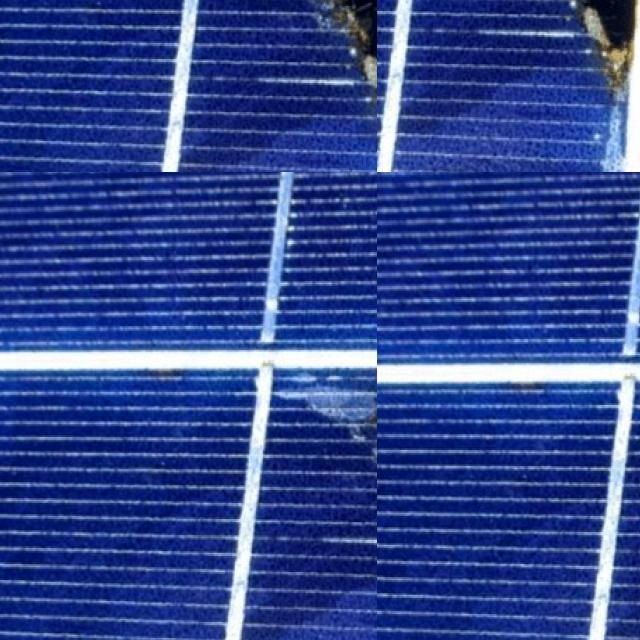crack: (377, 0, 640, 172)
panel: (9, 20, 189, 170), (179, 24, 318, 138), (72, 0, 248, 42), (277, 0, 377, 54), (322, 38, 377, 113), (0, 0, 93, 41), (0, 0, 56, 42)
shadow: (178, 172, 252, 321), (0, 172, 52, 361), (52, 172, 123, 310)
